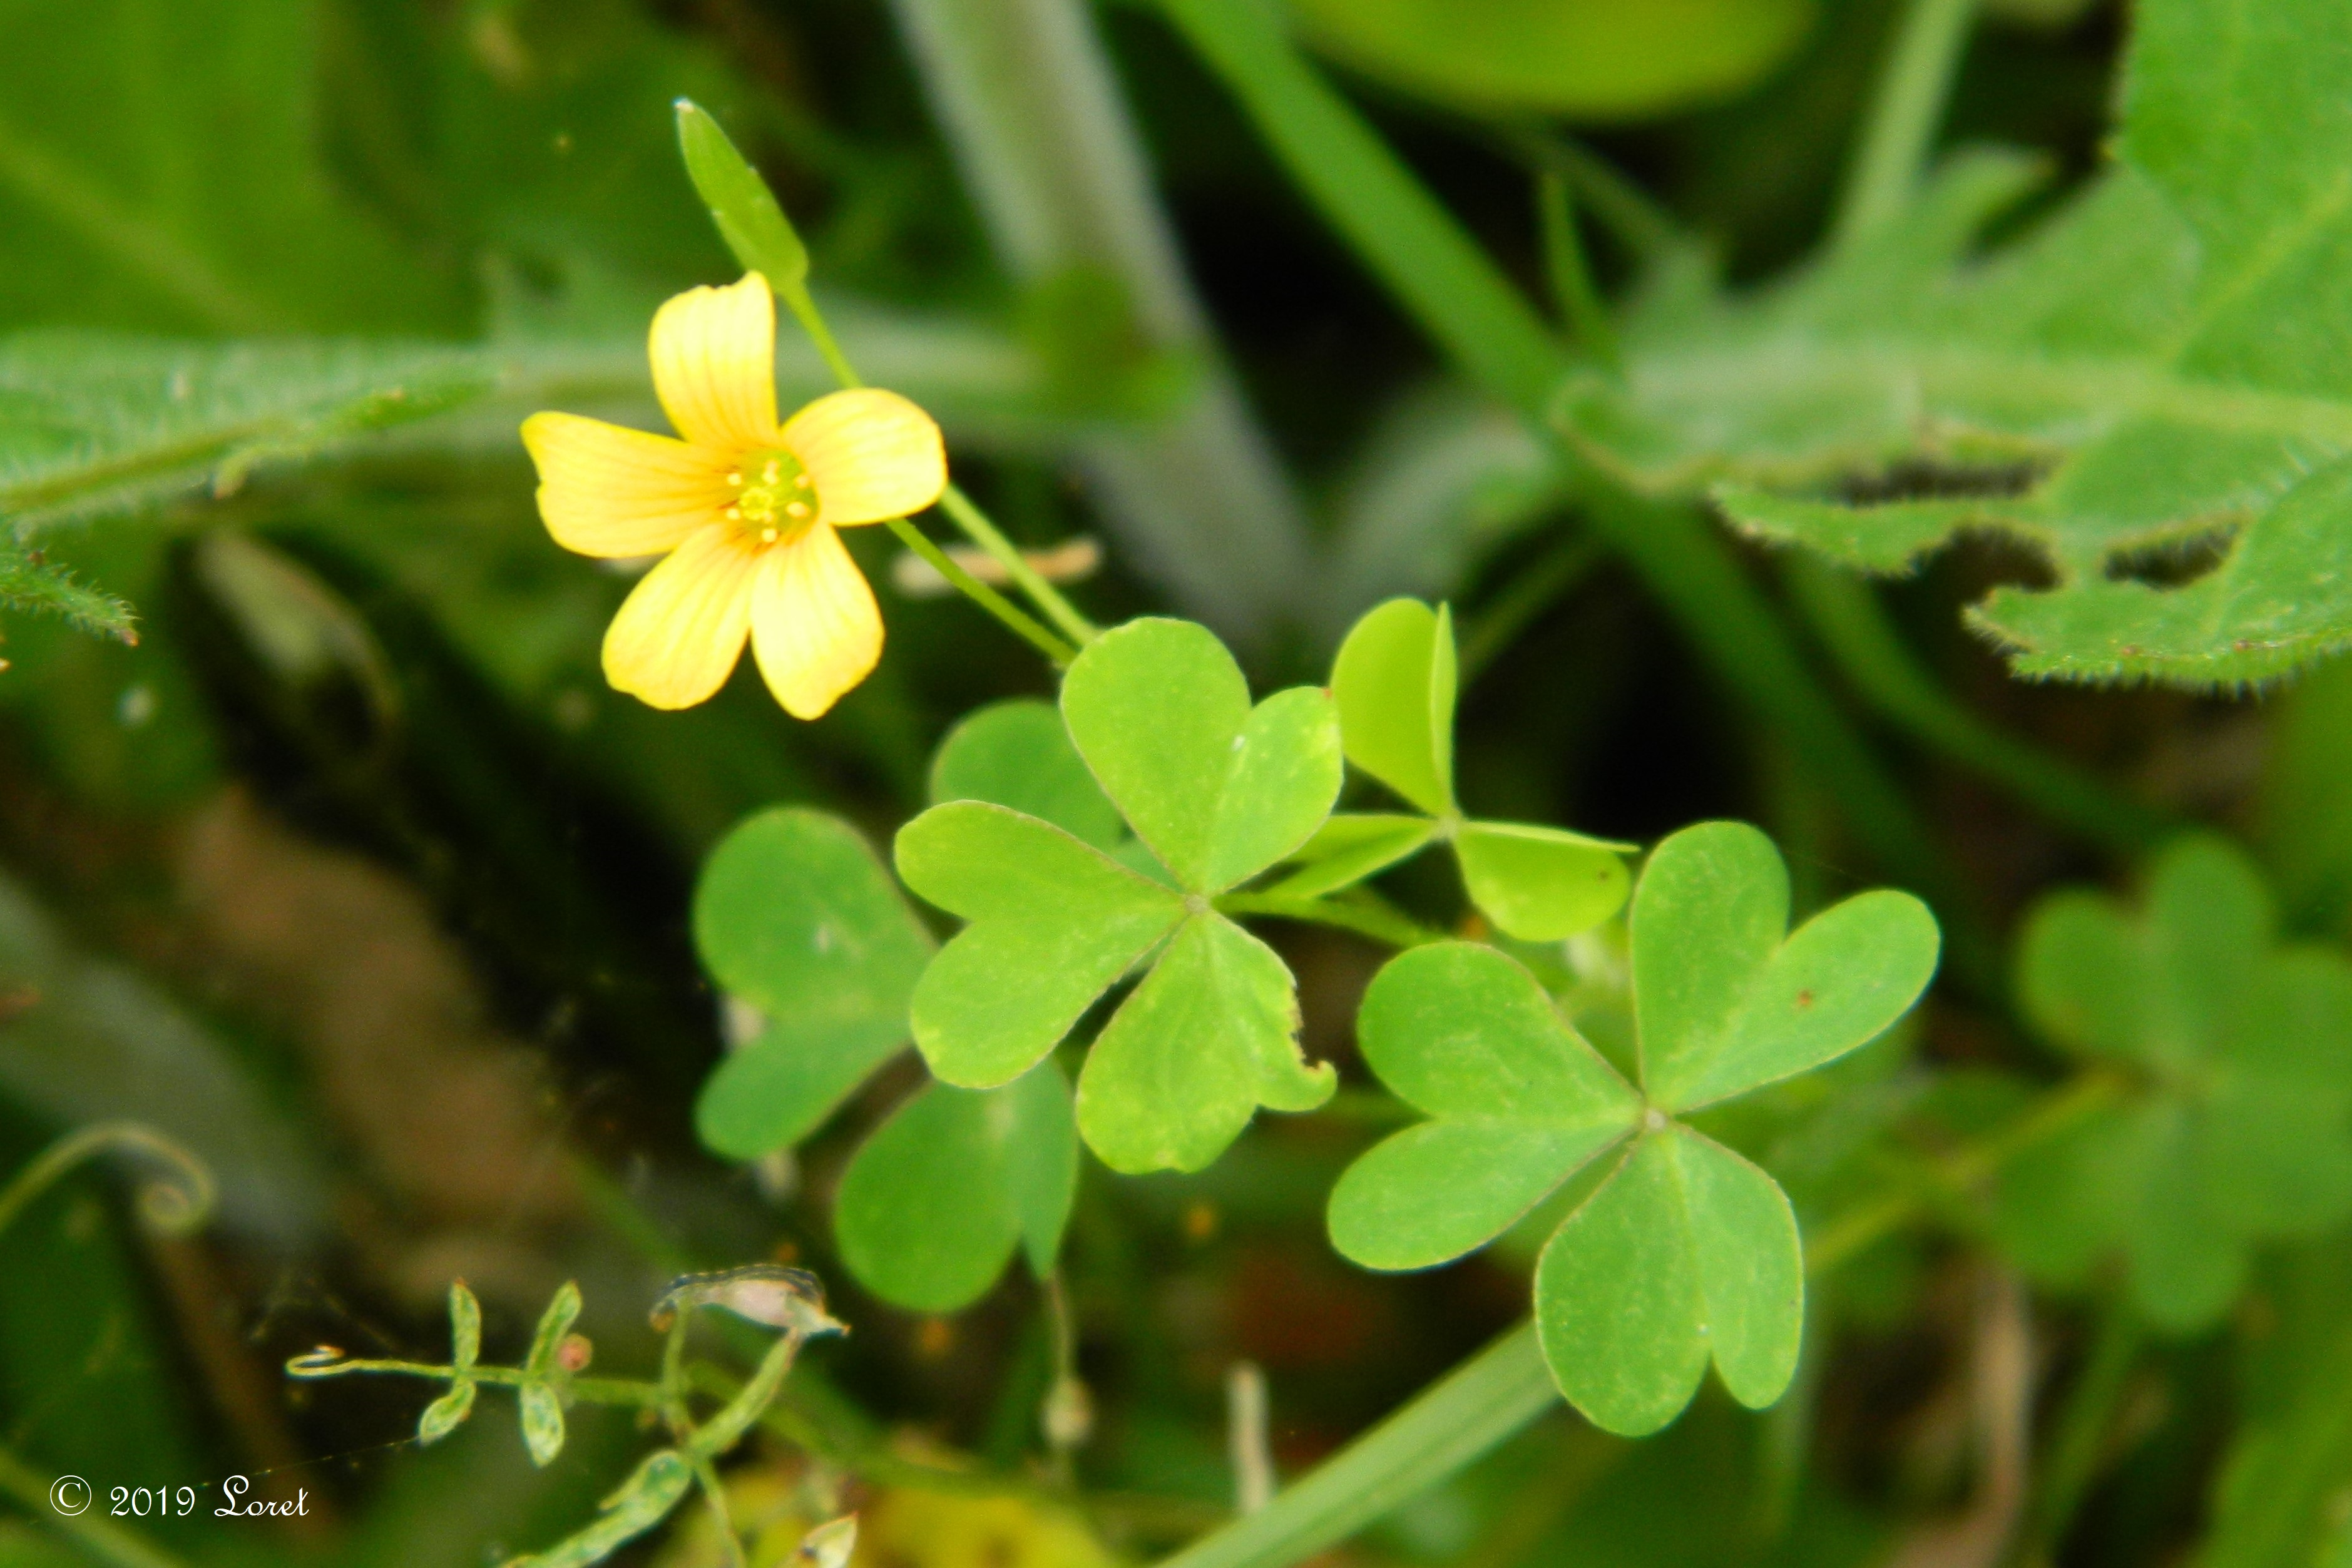oxalis: (873, 577, 1936, 1368)
